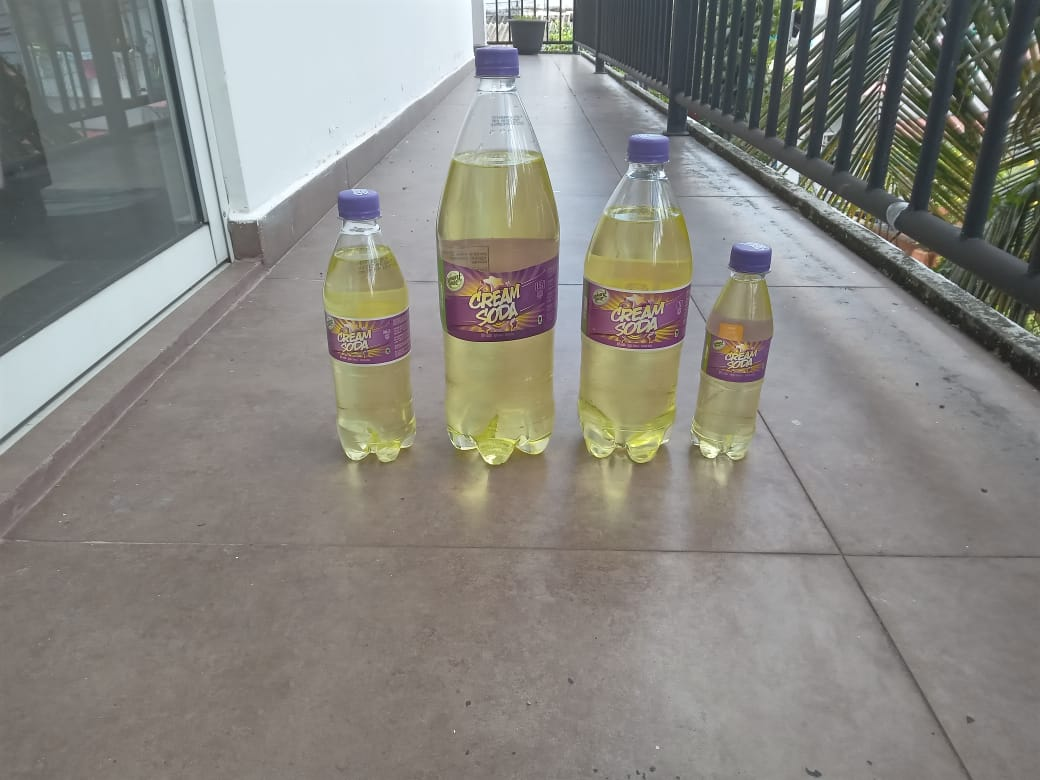L: (435, 43, 561, 463)
M: (579, 134, 689, 465)
S: (321, 187, 417, 465)
Xs: (691, 248, 773, 467)
